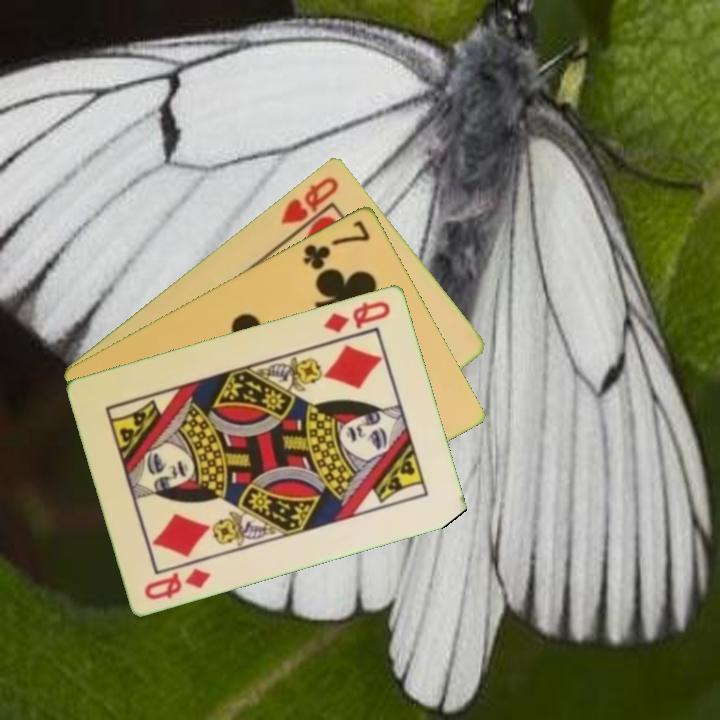7c: (299, 216, 374, 273)
Qd: (141, 564, 214, 603), (320, 297, 394, 335)
Qh: (276, 172, 342, 227)
